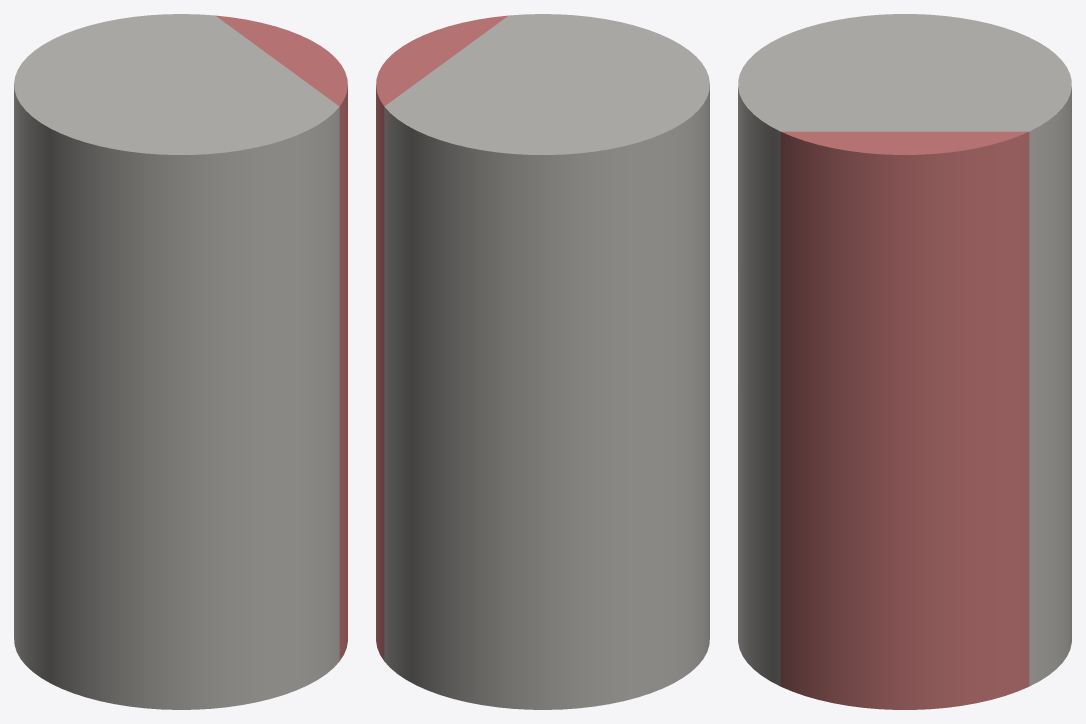
Rendered from step_02.glb.
3 views of the same model, side by side, from view 1: azimuth 30°, elevation 25°; view 2: azimuth 150°, elevation 25°; view 3: azimuth 270°, elevation 25° (orthographic).
Visible parts, largest first — view 1: part__actuator plinth, removed__actuator plinth; view 2: part__actuator plinth, removed__actuator plinth; view 3: removed__actuator plinth, part__actuator plinth.
Boxes of the visible parts, bbox=[...] form: part__actuator plinth: bbox=[14, 14, 339, 709]; removed__actuator plinth: bbox=[216, 15, 347, 660]; part__actuator plinth: bbox=[384, 14, 709, 709]; removed__actuator plinth: bbox=[376, 15, 507, 660]; removed__actuator plinth: bbox=[780, 131, 1029, 709]; part__actuator plinth: bbox=[738, 14, 1071, 686].
Size of the model in its own units: 300 by 550 by 300.
